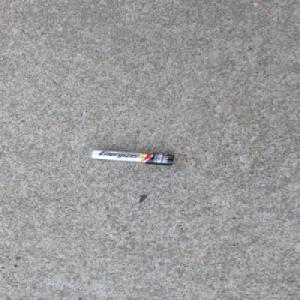Battery: (88, 149, 176, 166)
